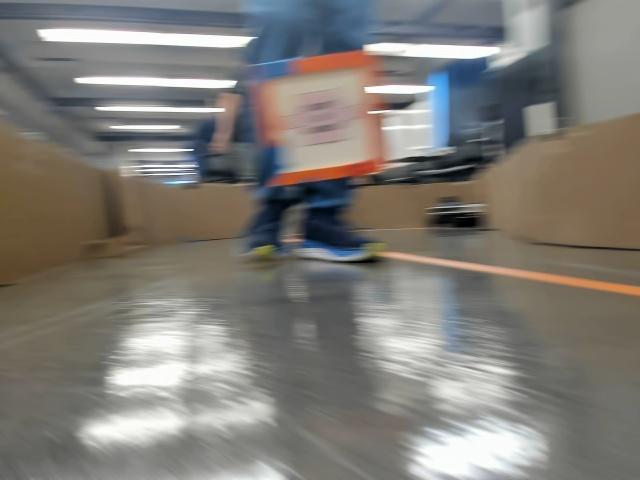Do Not Go Around: (274, 96, 363, 153)
